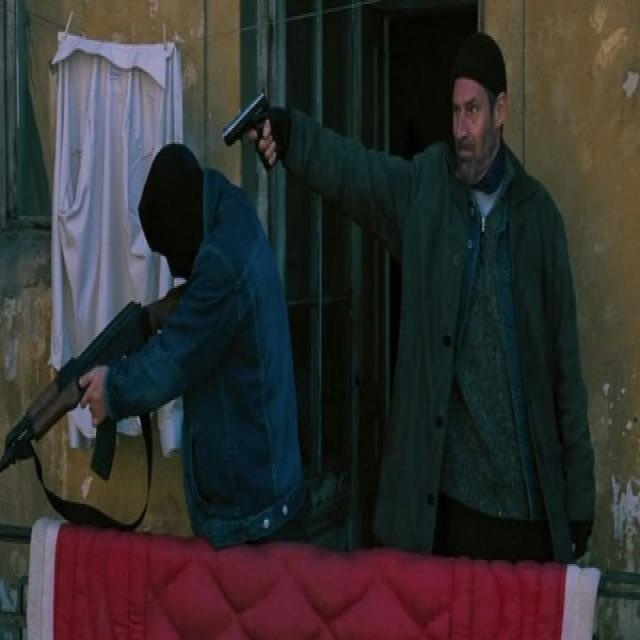rifle: (2, 282, 192, 492)
